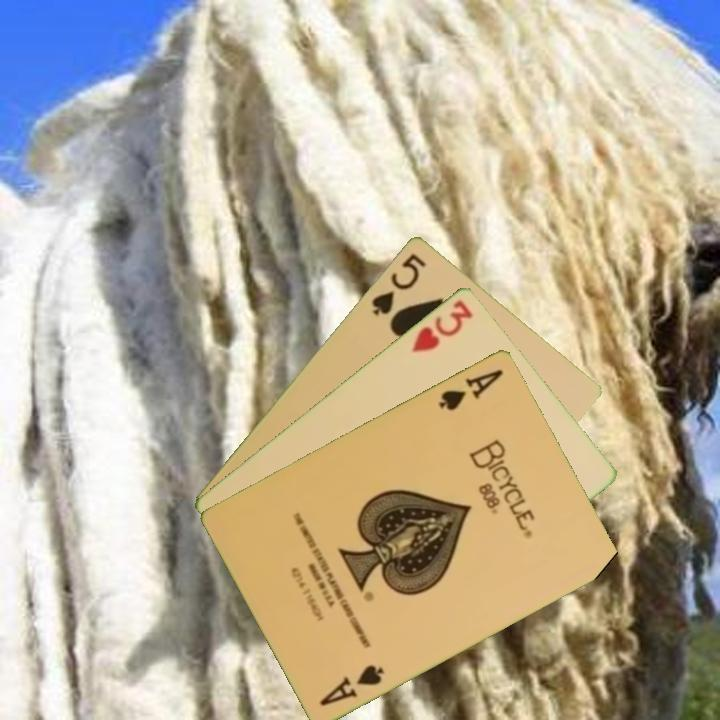3h: (408, 295, 476, 355)
5s: (367, 249, 430, 318)
As: (435, 364, 507, 413), (316, 660, 387, 709)
